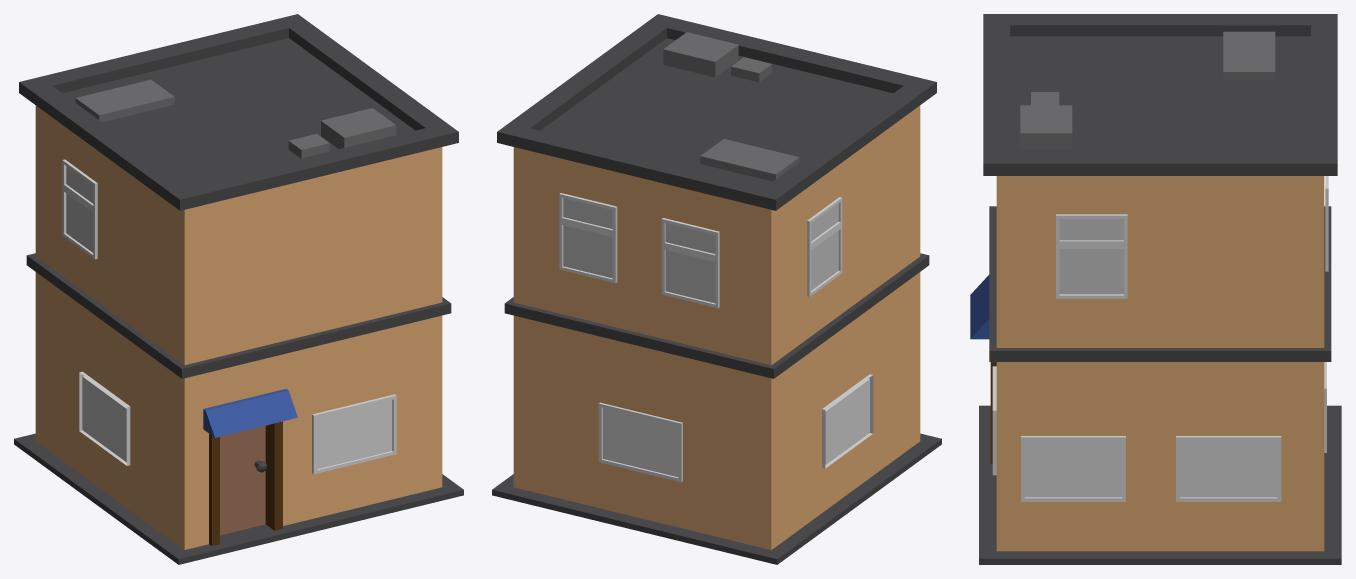
Rendered from Building.glb.
3 renders of one model, left to right at view 1: azimuth 30°, elevation 25°; view 2: azimuth 150°, elevation 25°; view 3: azimuth 270°, elevation 25°, orthographic. The views are drawn at different scales.
Parts seen in each view (by area): view 1: Cube; view 2: Cube; view 3: Cube.
Boxes of the visible parts, <box> form: Cube: <box>14,14,463,564</box>; Cube: <box>492,14,941,564</box>; Cube: <box>970,14,1341,564</box>.
Bounding box in the file's own units: 6.77 × 8.41 × 6.93.
